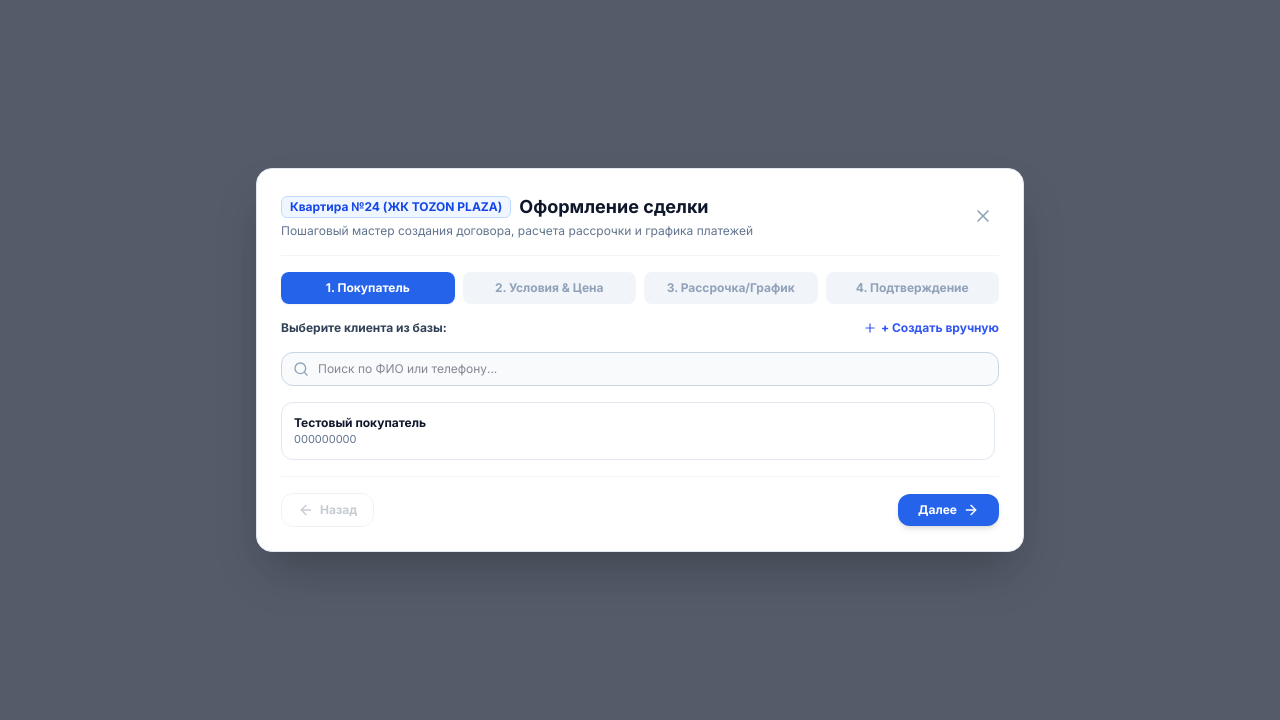
Test: initial buyer receipt cash desk › blocks receipt when desks are failure
Click the text "Тестовый покупатель": point(360, 423) [294, 415, 426, 431]
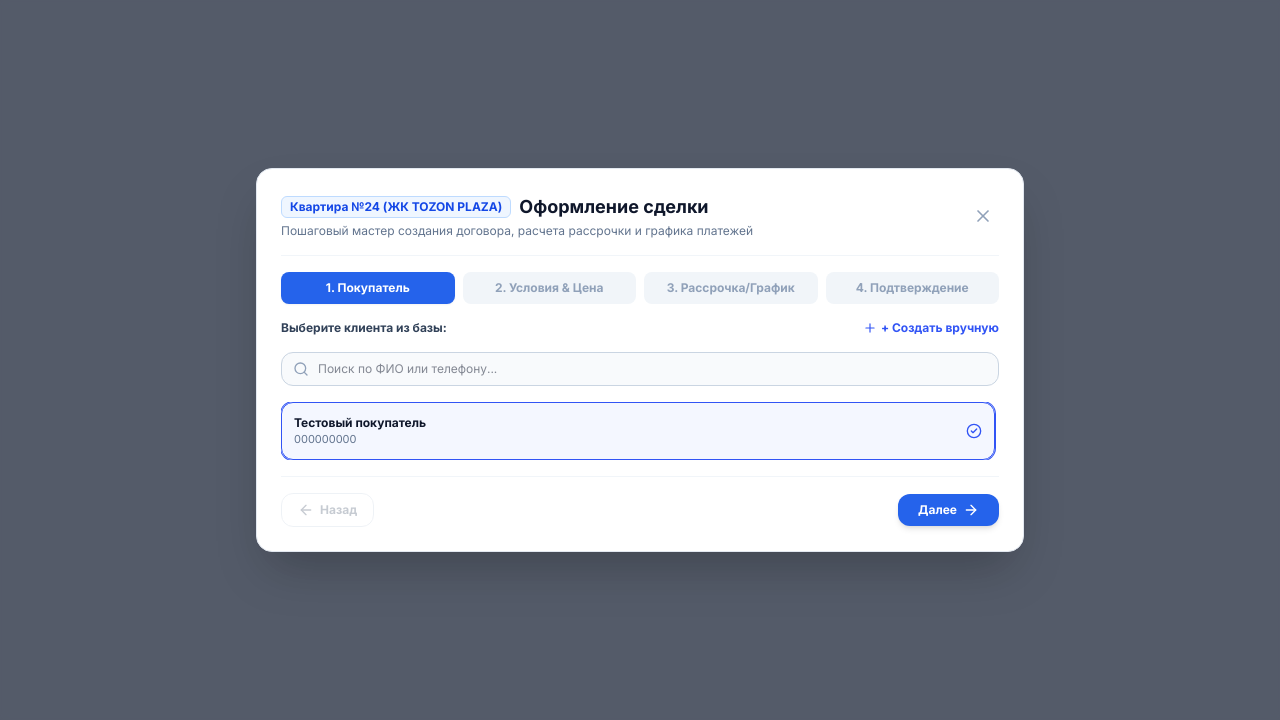
Click the button "Далее": point(949, 510) [898, 494, 999, 526]
(page scrolled)
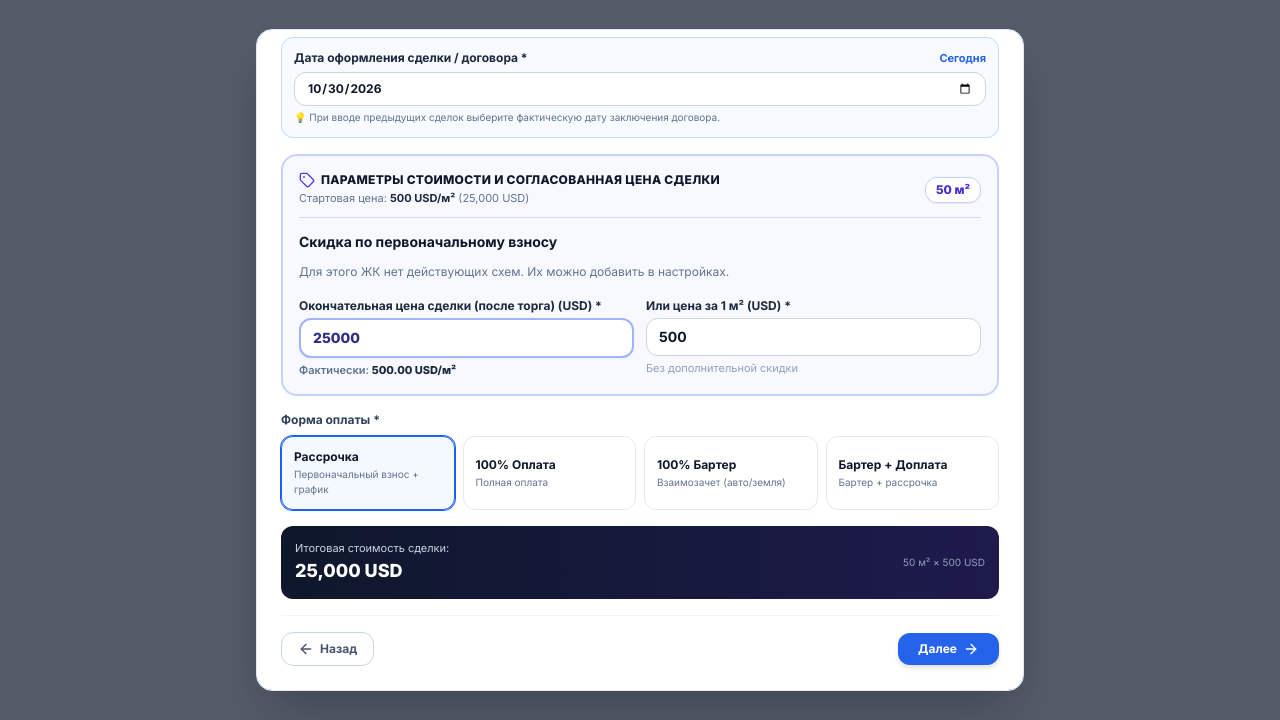
Click the button "Далее": point(949, 649) [898, 633, 999, 665]
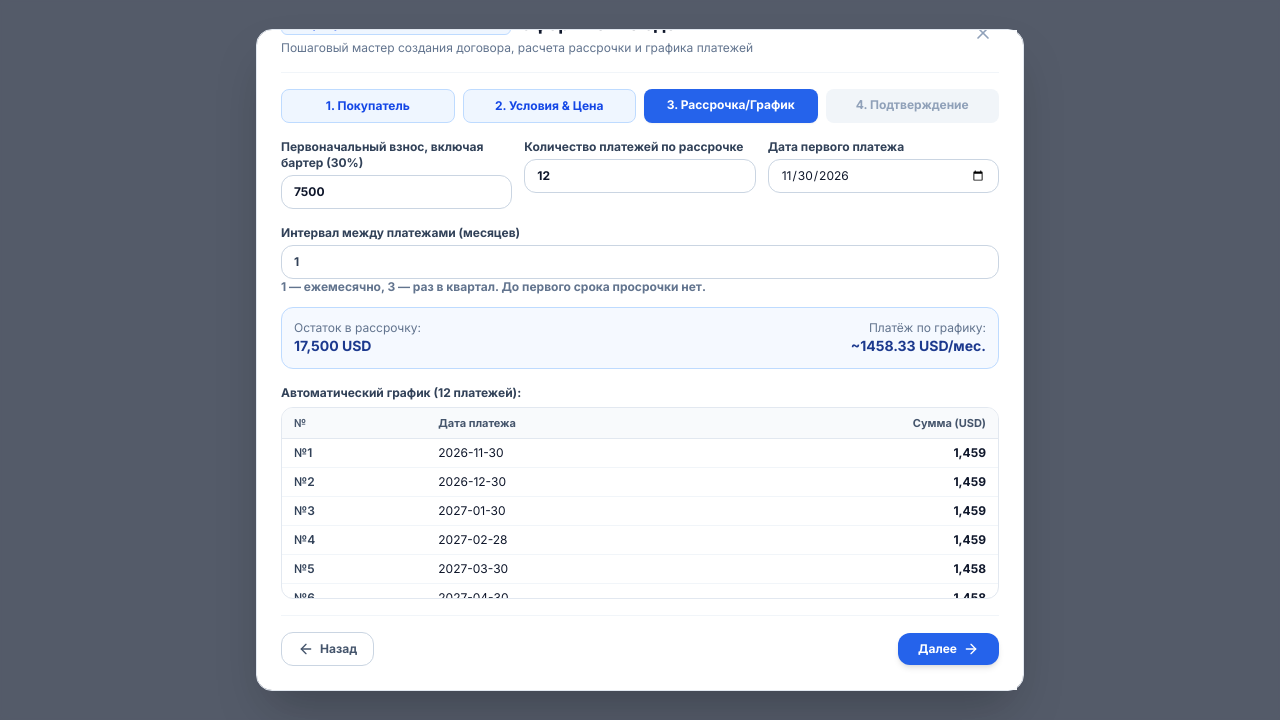
Click the button "Далее": point(949, 649) [898, 633, 999, 665]
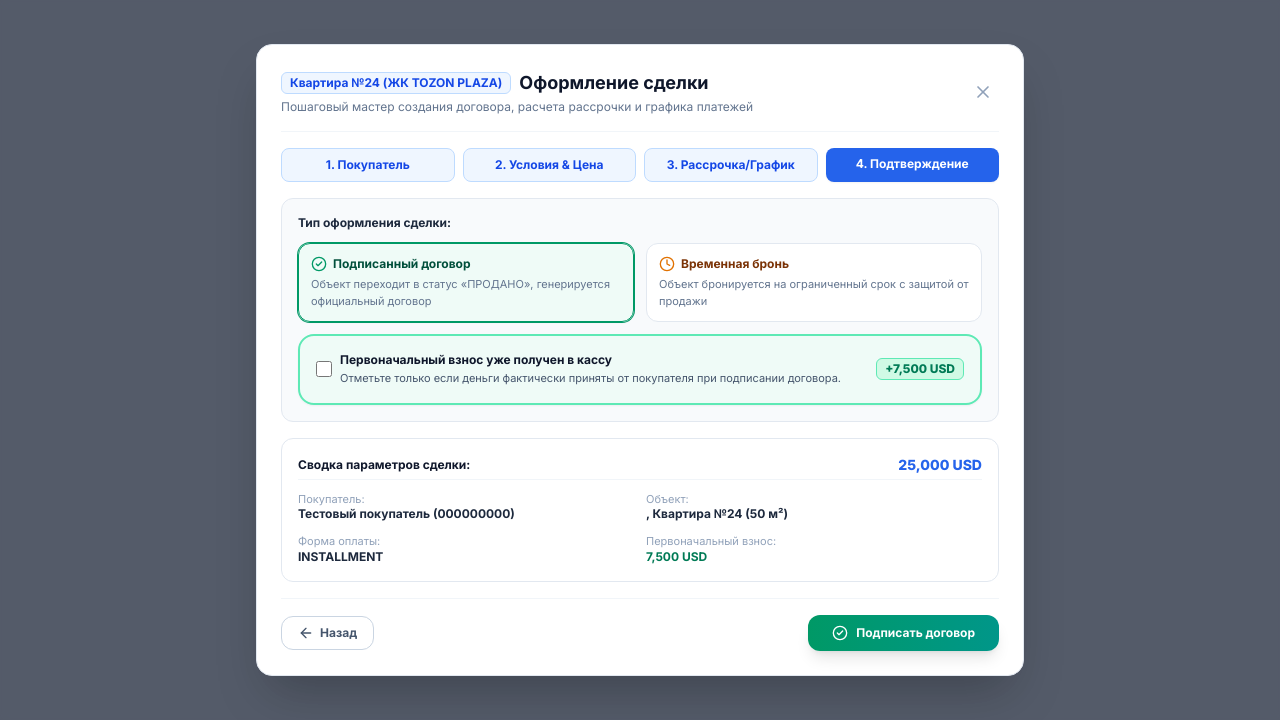
Click the checkbox labelled "Первоначальный взнос уже получен в кассу": point(324, 369) [316, 361, 332, 377]
(page scrolled)
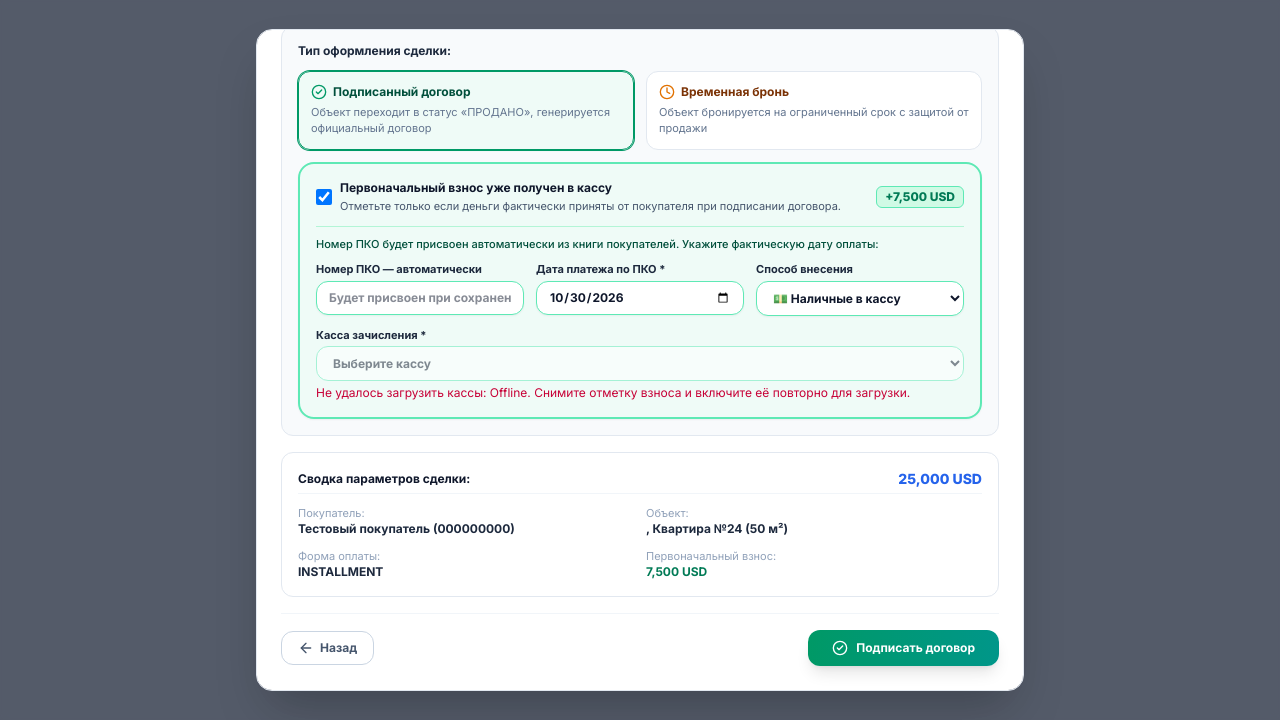
Now the text "Не удалось загрузить кассы" is shown, box [316, 385, 490, 400]
Click the button "Подписать договор": point(904, 648) [808, 630, 999, 666]
(page scrolled)
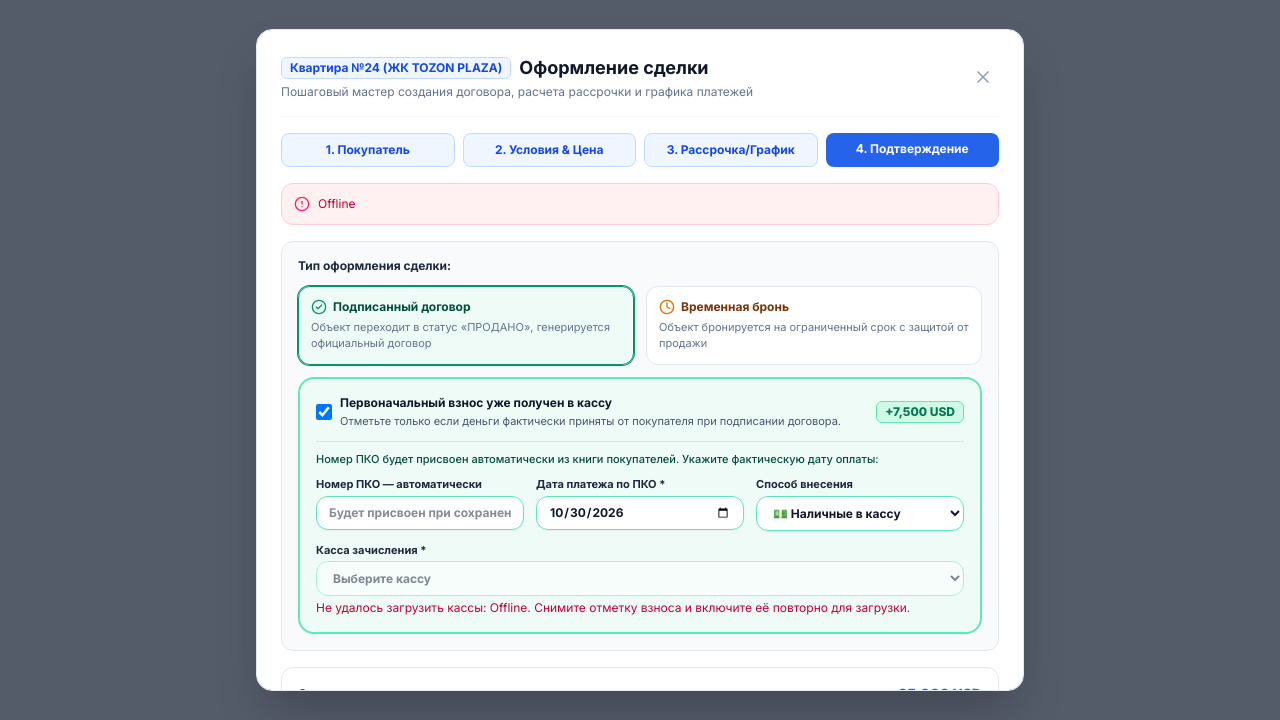
Now the text "Offline" is shown, box [318, 196, 356, 212]
